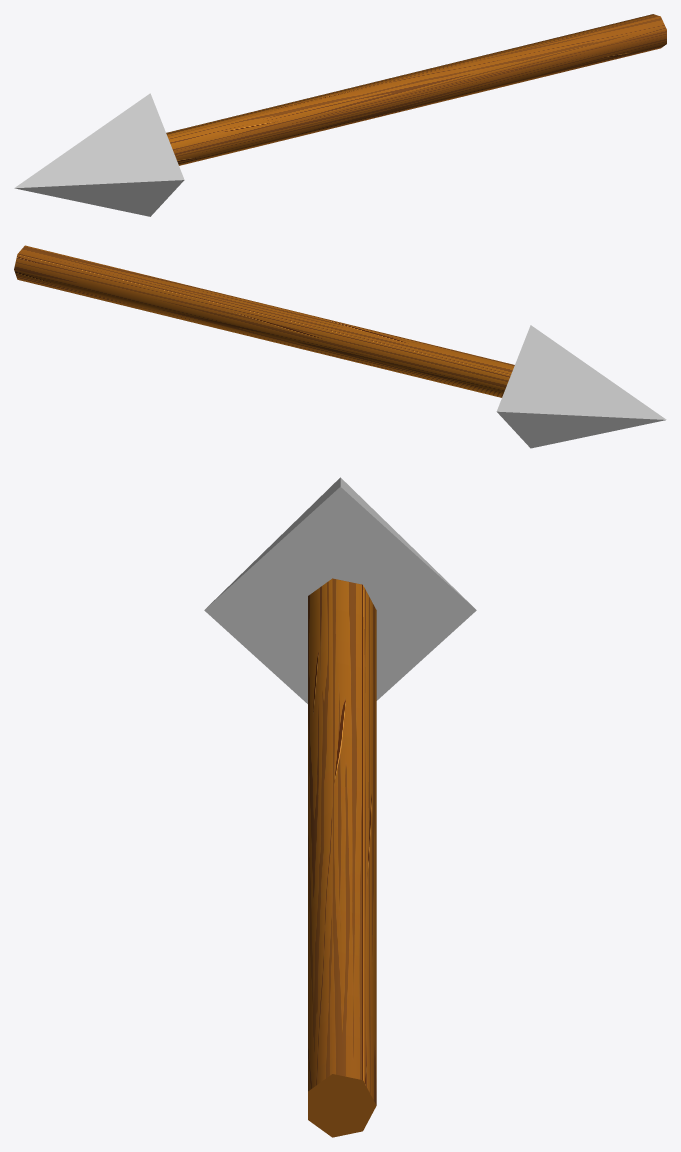
Rendered from basic arrow.fbx.
3 renders of one model, top to bottom at view 1: azimuth 30°, elevation 25°; view 2: azimuth 150°, elevation 25°; view 3: azimuth 270°, elevation 25°, orthographic. The views are drawn at different scales.
Visible parts, largest first — view 1: Cone; view 2: Cone; view 3: Cone.
Boxes of the visible parts, <box> form: Cone: <box>14,14,666,216</box>; Cone: <box>14,245,666,448</box>; Cone: <box>204,477,476,1137</box>.
Bounding box in the file's own units: 165 × 30.23 × 30.23.
